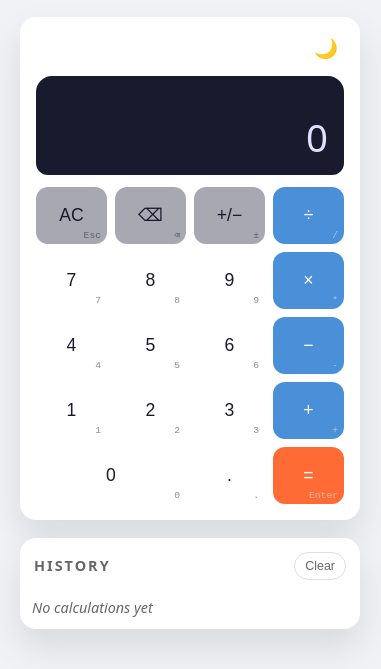
Scenario: App › clears the history log
Step 1. Click the button "5 5" → x=150, y=345, box x1=115 y1=317 x2=186 y2=374
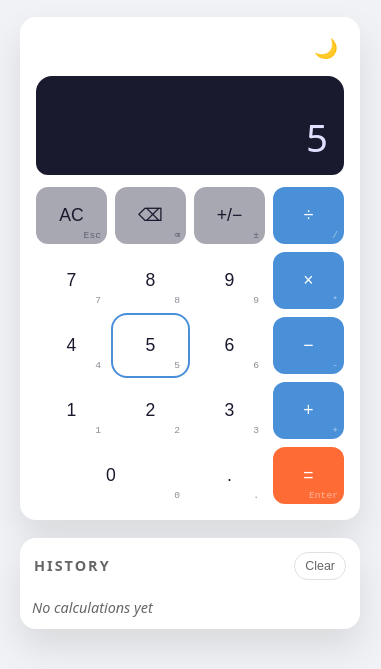
Step 2. Click the button "+ +" → x=308, y=410, box x1=273 y1=382 x2=344 y2=439
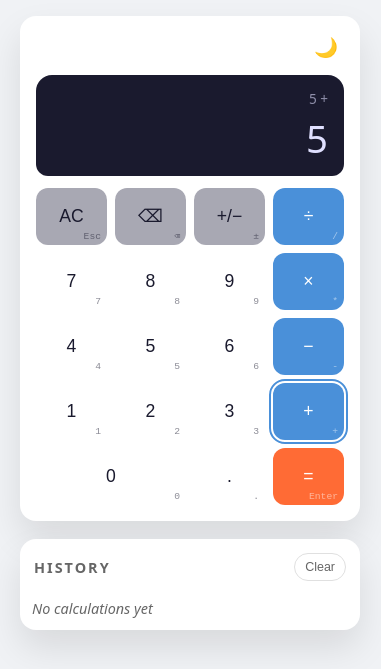
Step 3. Click the button "3 3" → x=230, y=412, box x1=194 y1=383 x2=265 y2=440
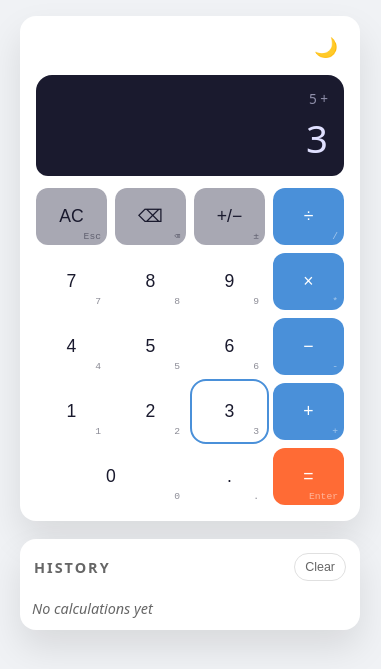
Step 4. Click the button "= Enter" → x=308, y=477, box x1=273 y1=448 x2=344 y2=505
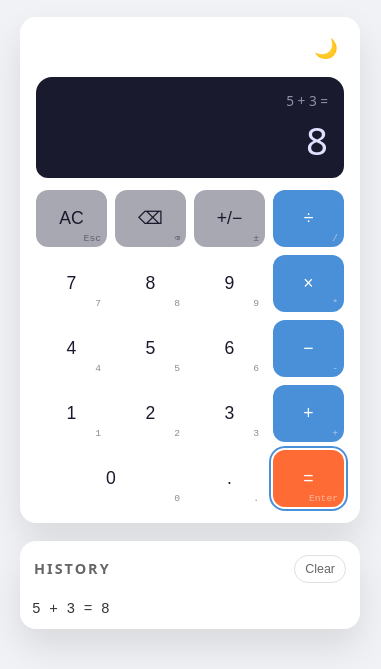
Step 5. Click the button "Clear" → x=320, y=569, box x1=294 y1=555 x2=346 y2=583
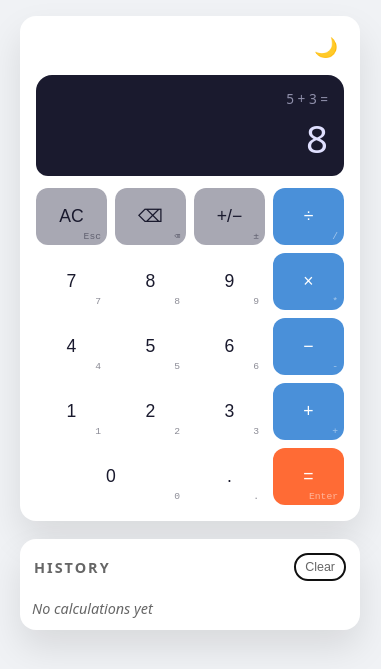
Expected: the list item "No calculations yet" is shown, x1=32 y1=599 x2=153 y2=618
